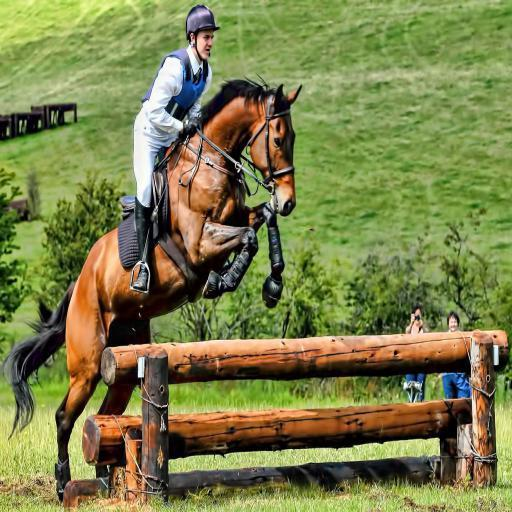horse: (3, 71, 305, 506)
